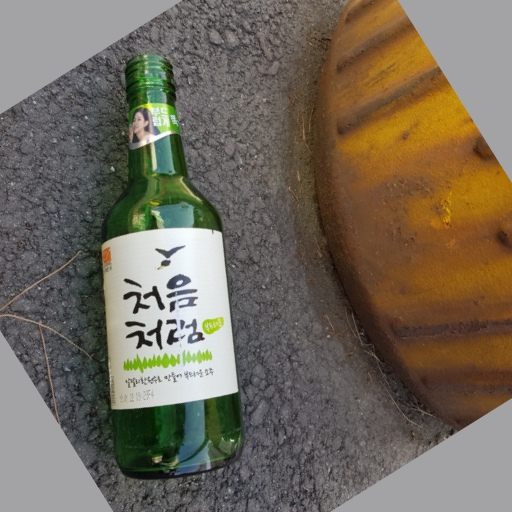Glass_0: (94, 51, 248, 479)
